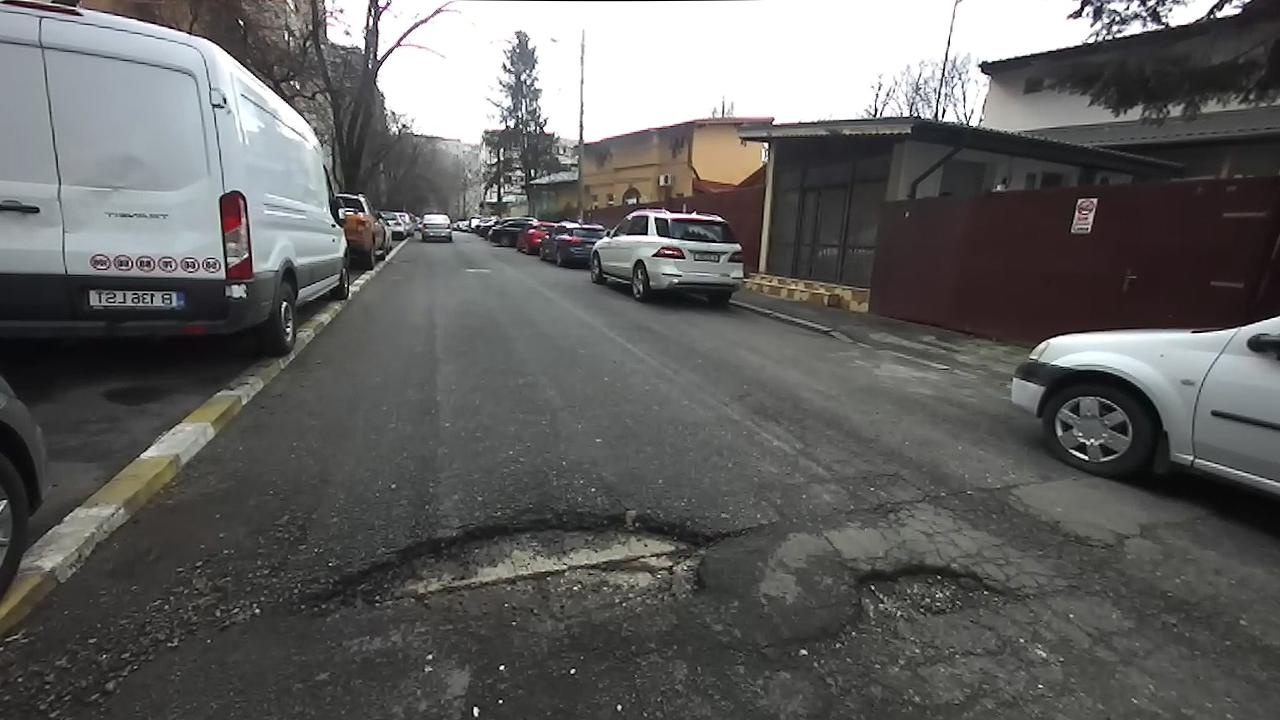pothole: (292, 504, 746, 642), (830, 552, 1017, 647)
